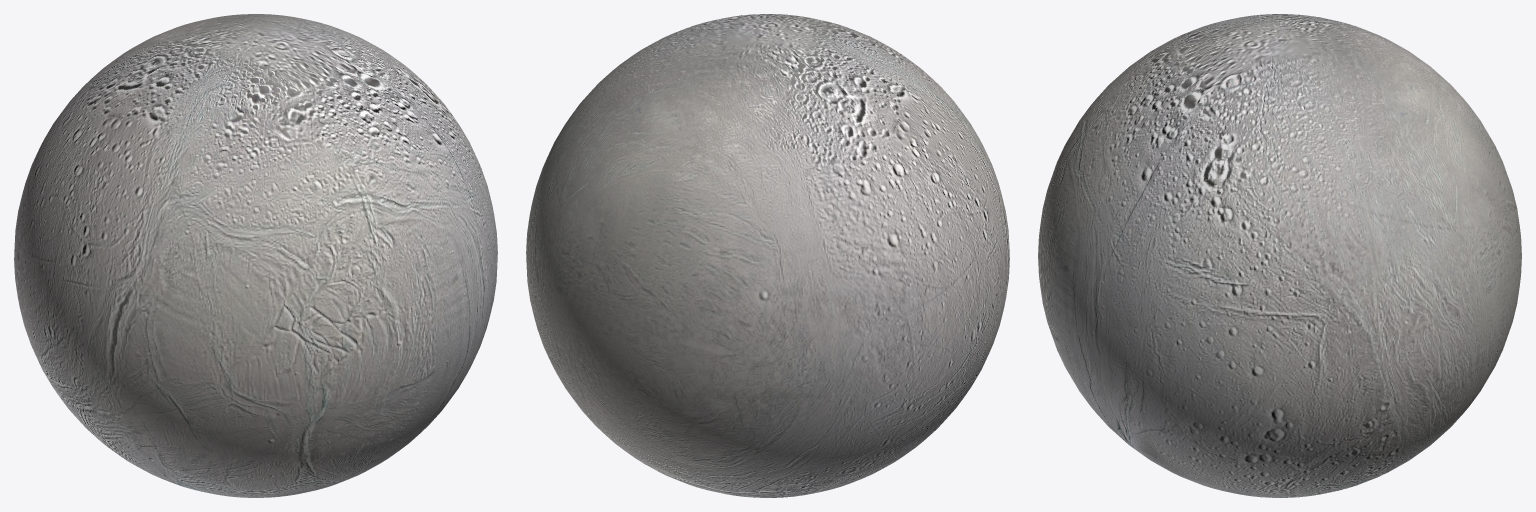
File: ball-enceladus.glb
3 renders of one model, left to right at view 1: azimuth 30°, elevation 25°; view 2: azimuth 150°, elevation 25°; view 3: azimuth 270°, elevation 25°, orthographic.
Visible parts, largest first — view 1: voyager2; view 2: voyager2; view 3: voyager2.
Boxes of the visible parts, left/top/right/bottom form: voyager2: left=14, top=14, right=497, bottom=497; voyager2: left=526, top=14, right=1009, bottom=497; voyager2: left=1038, top=14, right=1521, bottom=497.
Bounding box in the file's own units: 2 × 2 × 2.
1 material, 1 textured.
